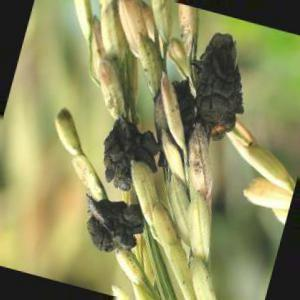Leaf_Scald: (202, 30, 240, 138), (82, 195, 148, 254), (104, 114, 147, 188)
